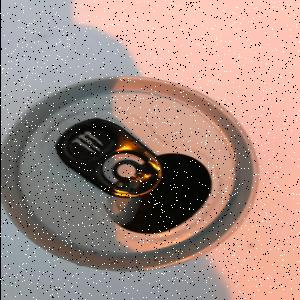Can: (2, 76, 260, 274)
